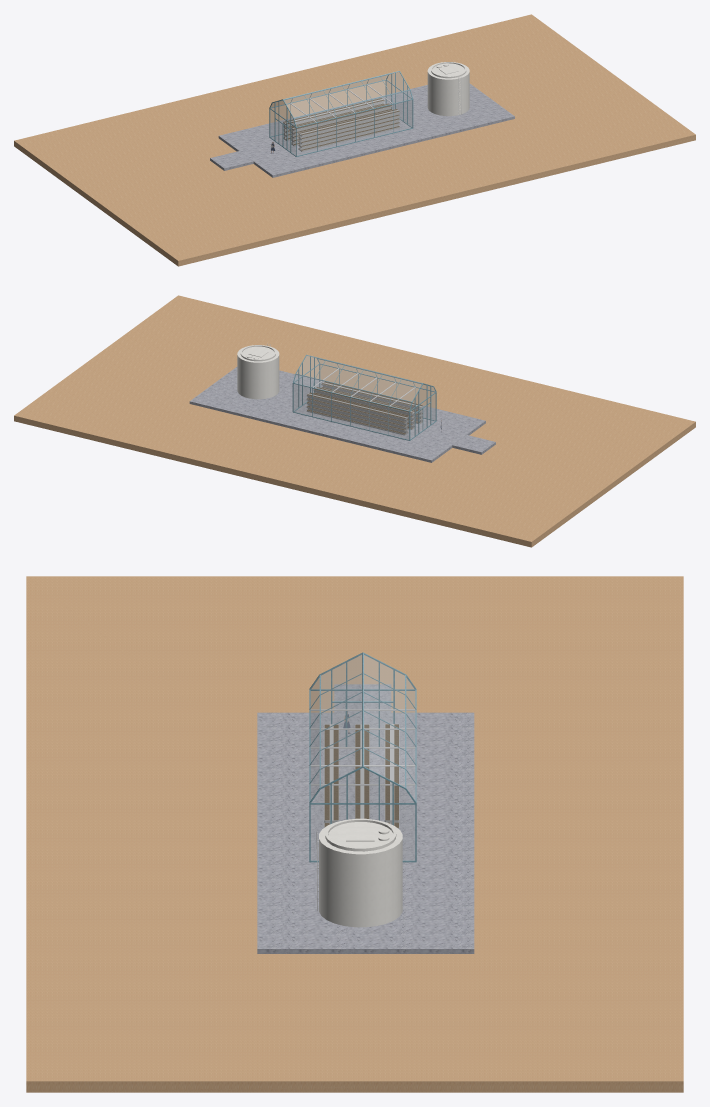
Rendered from 3d_teplica.glb.
3 views of the same model, one above another, from view 1: azimuth 30°, elevation 25°; view 2: azimuth 150°, elevation 25°; view 3: azimuth 270°, elevation 25° (orthographic). The views are drawn at different scales.
Visible parts, largest first — view 1: Geom3D (×10), Geom3D_ (×2); view 2: Geom3D (×10), Geom3D_ (×2); view 3: Geom3D (×8), Geom3D_ (×2).
Part boxes in pixels (left/top/right/bottom): Geom3D (×10): left=14, top=14, right=695, bottom=266; Geom3D_ (×2): left=218, top=62, right=514, bottom=177; Geom3D (×10): left=14, top=295, right=695, bottom=547; Geom3D_ (×2): left=189, top=346, right=485, bottom=462; Geom3D (×8): left=26, top=576, right=683, bottom=1092; Geom3D_ (×2): left=257, top=712, right=474, bottom=953.
Bounding box in the file's own units: 73.44 × 8.09 × 40.37.
28 materials, 5 textured.
